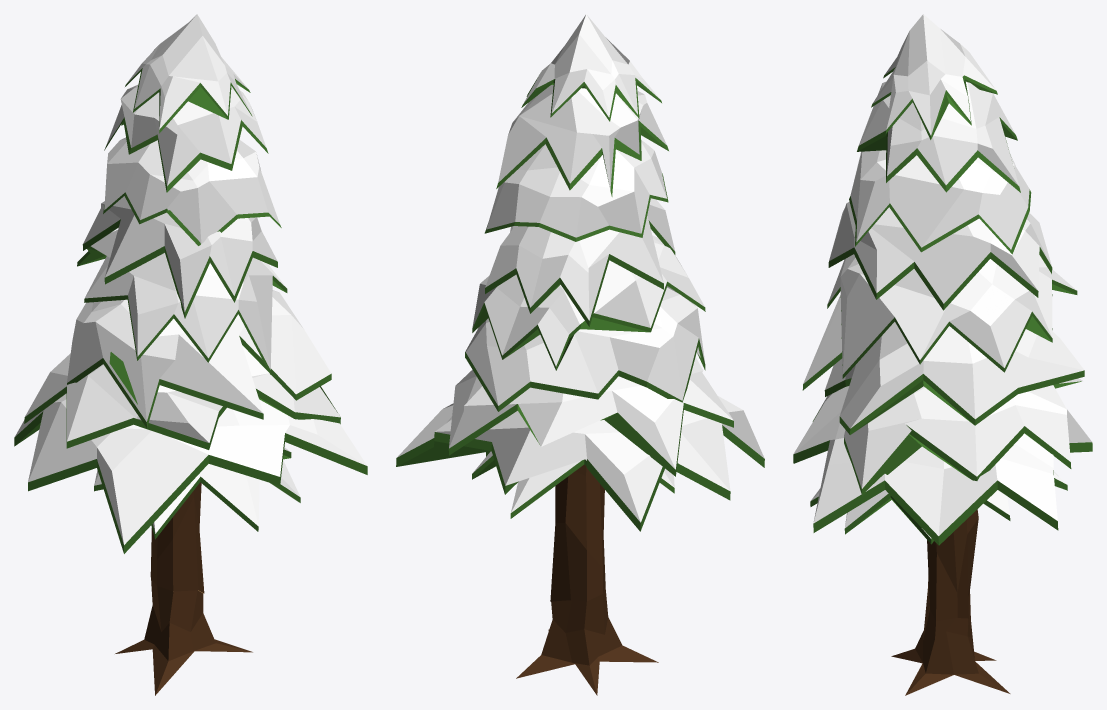
The model's file is LowPolyTree1.fbx.
The picture shows the model from 3 angles, left to right: view 1: azimuth 30°, elevation 25°; view 2: azimuth 150°, elevation 25°; view 3: azimuth 270°, elevation 25°; orthographic projection. The views are drawn at different scales.
Visible parts, largest first — view 1: SnowPine7, Stump1.008; view 2: SnowPine7, Stump1.008; view 3: SnowPine7, Stump1.008.
Part boxes in pixels (x1,y1,x2,y2): SnowPine7: (14, 14, 367, 593); Stump1.008: (115, 578, 252, 695); SnowPine7: (396, 14, 764, 601); Stump1.008: (516, 586, 658, 695); SnowPine7: (793, 14, 1092, 621); Stump1.008: (891, 591, 1010, 695).
Bounding box in the file's own units: 473 × 1040 × 421.
